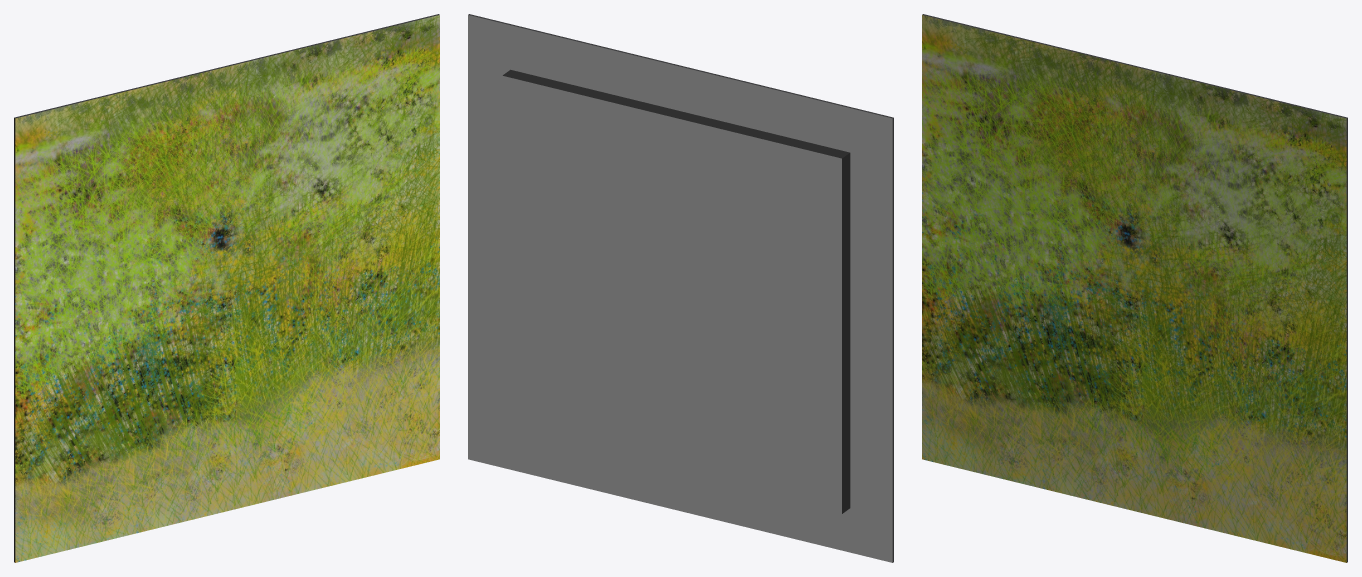
The model's file is va107_moyen_dibond.glb.
3 views of the same model, side by side, from view 1: azimuth 30°, elevation 25°; view 2: azimuth 150°, elevation 25°; view 3: azimuth 330°, elevation 25° (orthographic).
Visible parts, largest first — view 1: va107_moyen_dibond; view 2: va107_moyen_dibond; view 3: va107_moyen_dibond.
Part boxes in pixels (box(x1,y1,x2,y2)): va107_moyen_dibond: box(14, 14, 439, 562); va107_moyen_dibond: box(468, 14, 893, 562); va107_moyen_dibond: box(922, 14, 1347, 562).
Size of the model in its own units: 0.6 by 0.6 by 0.023.
Materials: 4 (1 with a texture image).
